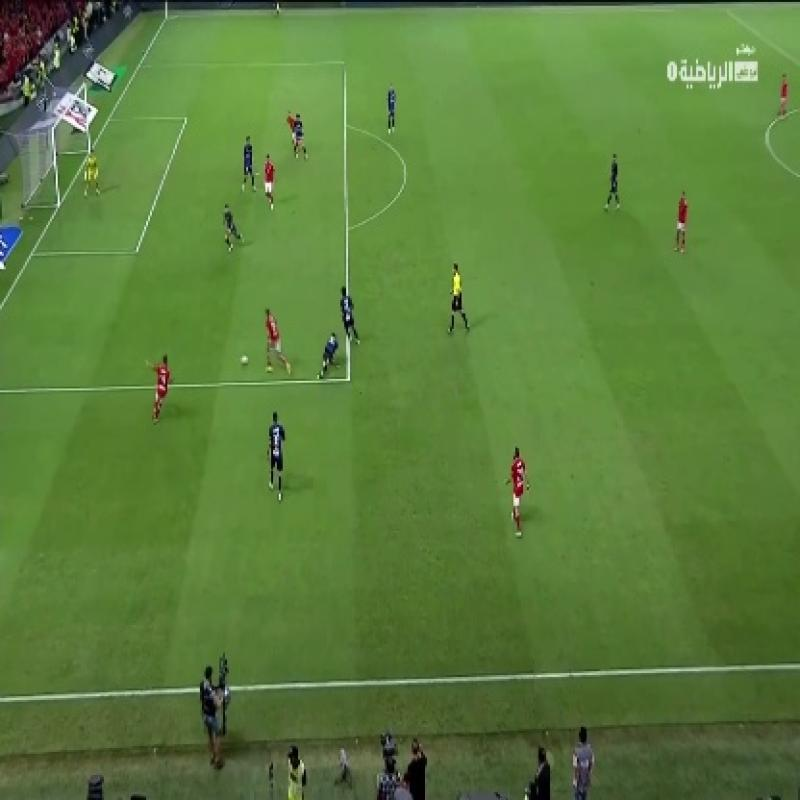1: (160, 13, 175, 23)
10: (340, 118, 354, 134)
11: (342, 219, 356, 239)
12: (336, 364, 360, 390)
13: (714, 2, 743, 19)
2: (103, 114, 115, 126)
4: (23, 244, 37, 262)
7: (178, 112, 190, 125)
8: (126, 240, 142, 262)
9: (338, 56, 348, 72)
c: (758, 136, 784, 166)
